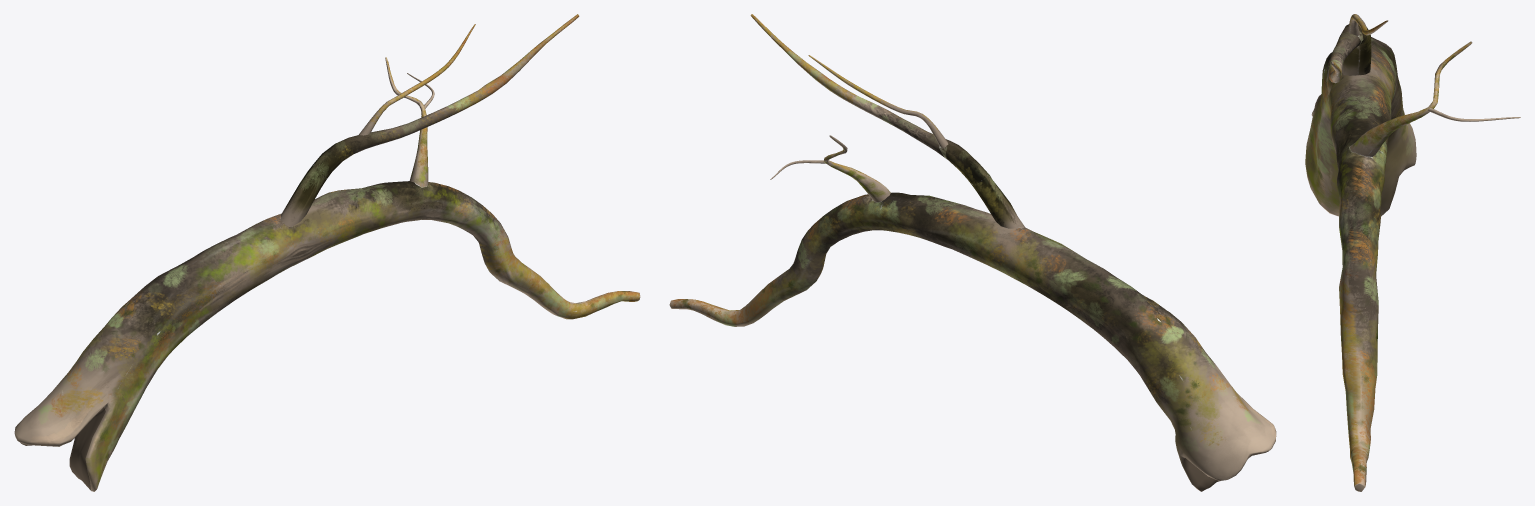
The model's file is Baum gefallen.glb.
3 renders of one model, left to right at view 1: azimuth 30°, elevation 25°; view 2: azimuth 150°, elevation 25°; view 3: azimuth 270°, elevation 25°, orthographic. The views are drawn at different scales.
Parts seen in each view (by area): view 1: Hauptfläche, Hauptfläche_1, Hauptfläche_3, Hauptfläche_2; view 2: Hauptfläche, Hauptfläche_1, Hauptfläche_3, Hauptfläche_2; view 3: Hauptfläche, Hauptfläche_1, Hauptfläche_3, Hauptfläche_2, Hauptfläche_4.
Boxes of the visible parts, <box> form: Hauptfläche: <box>14,181,640,491</box>; Hauptfläche_1: <box>280,14,579,227</box>; Hauptfläche_3: <box>385,57,428,187</box>; Hauptfläche_2: <box>359,24,475,135</box>; Hauptfläche: <box>669,192,1276,491</box>; Hauptfläche_1: <box>750,14,1025,228</box>; Hauptfläche_3: <box>823,135,891,202</box>; Hauptfläche_2: <box>808,55,948,148</box>; Hauptfläche: <box>1305,37,1416,491</box>; Hauptfläche_1: <box>1328,24,1371,83</box>; Hauptfläche_3: <box>1349,41,1472,156</box>; Hauptfläche_2: <box>1348,14,1388,35</box>; Hauptfläche_4: <box>1428,108,1520,121</box>.
Size of the model in its own units: 10.13 by 5.63 by 2.46.
Materials: 5 (5 with a texture image).
